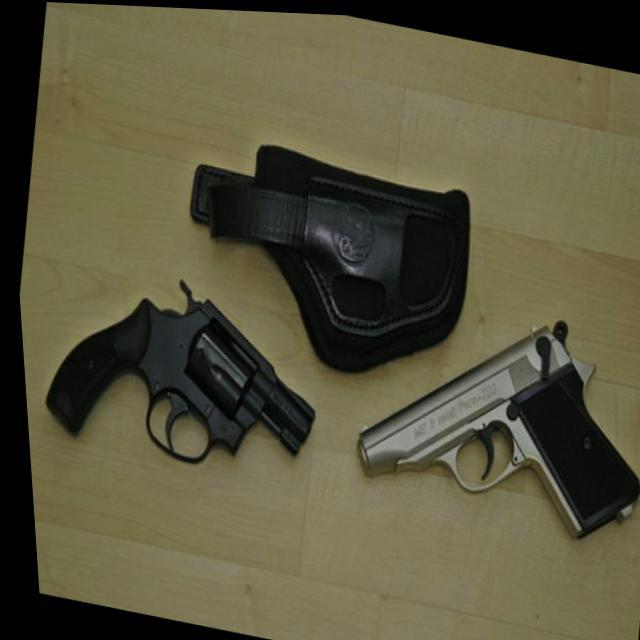weapon: (325, 272, 640, 550), (26, 250, 332, 486)
